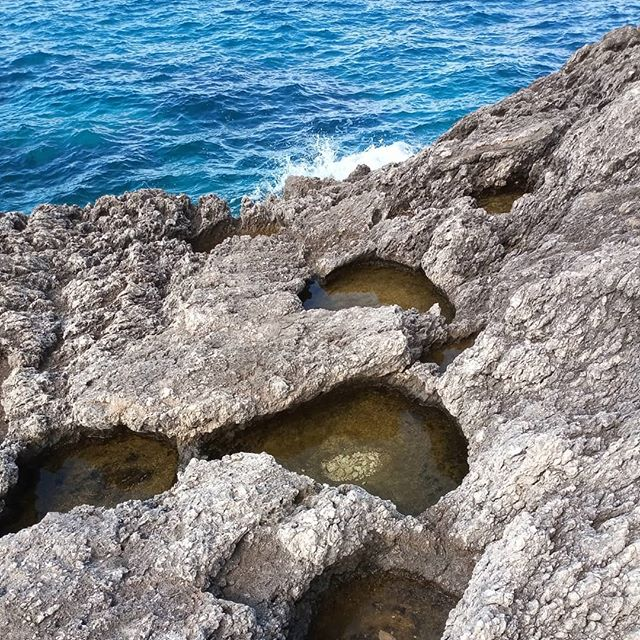rocks: (20, 155, 640, 640)
sea: (6, 1, 529, 196)
